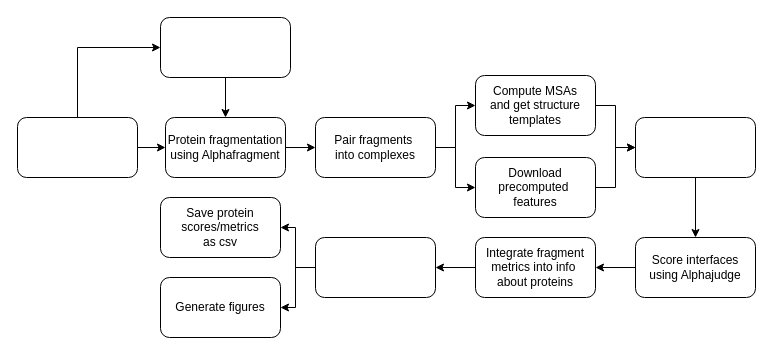
Some shapes in this 773 by 355 pixel diagram are drawn without their labels. The centre of each missing label's shape, as x and y in pixels:
"Fetch amino acid sequences, structured domains and known motifs" goes at [225,47].
"Input set of protein Uniprot IDs" goes at [77,147].
"Order tentative interactors by metascore" goes at [375,267].
"Predict structure of fragment complexes using Alphafold-Multimer" goes at [695,147].
